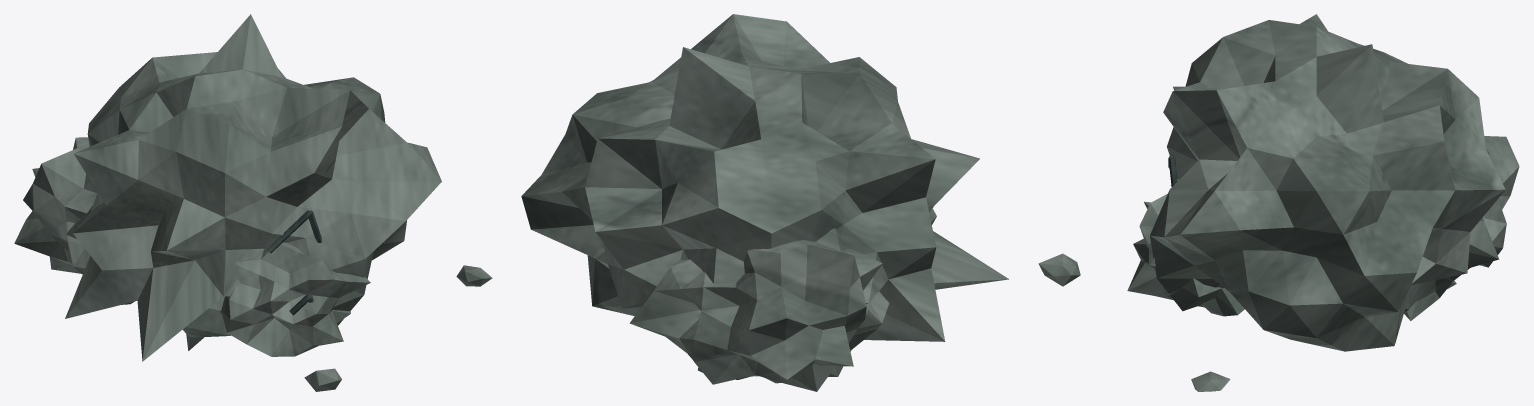
File: 0007_boulder_07.glb
3 renders of one model, left to right at view 1: azimuth 30°, elevation 25°; view 2: azimuth 150°, elevation 25°; view 3: azimuth 270°, elevation 25°, orthographic. The views are drawn at different scales.
Visible parts, largest first — view 1: stone, stone_dark; view 2: stone; view 3: stone.
Part boxes in pixels (bbox=[...]): stone: bbox=[14, 14, 492, 391]; stone_dark: bbox=[267, 210, 321, 315]; stone: bbox=[521, 14, 1008, 391]; stone: bbox=[1038, 14, 1519, 391].
Bounding box in the file's own units: 1.73 × 1.32 × 1.8.
2 materials, 2 textured.
